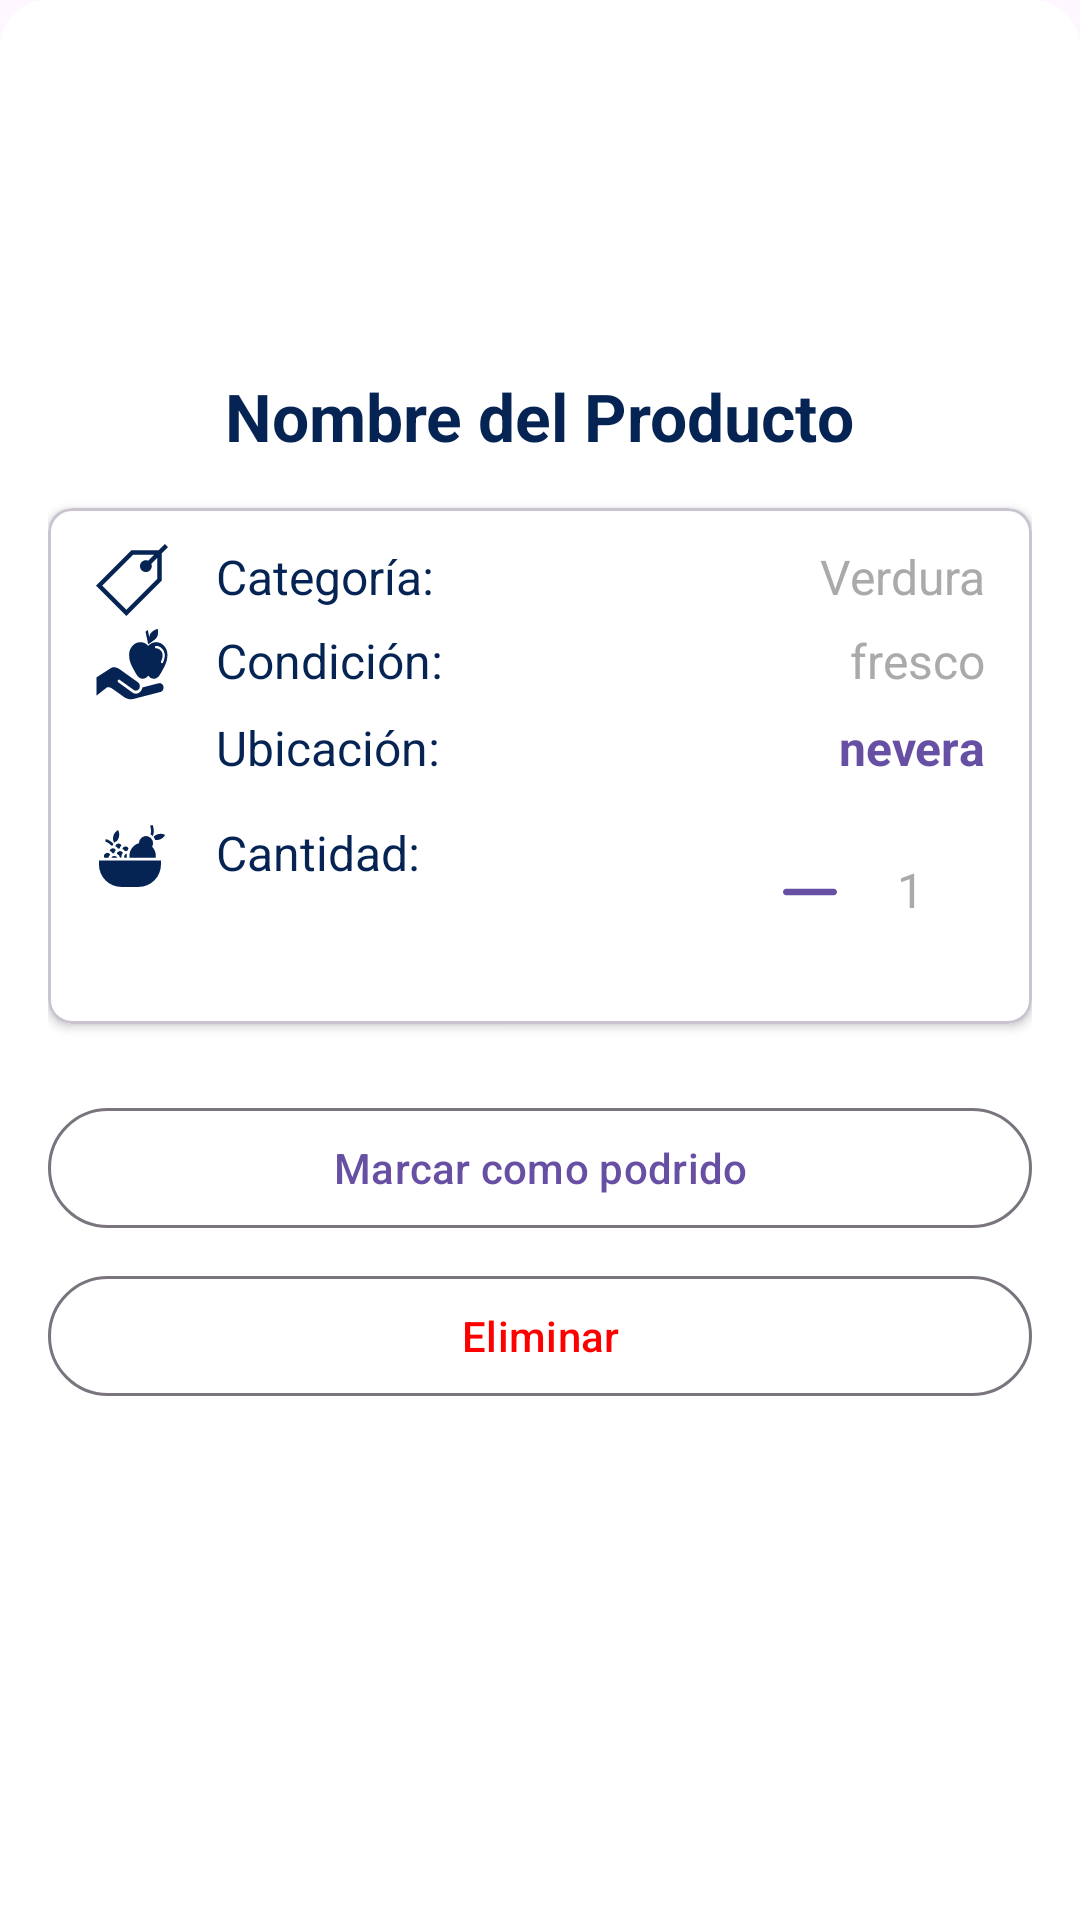

Locate icon controls on the screen. Image size 1080px x 1920px, boxes as rect(x1, y1, x2, y2).
category: rect(96, 544, 168, 616)
